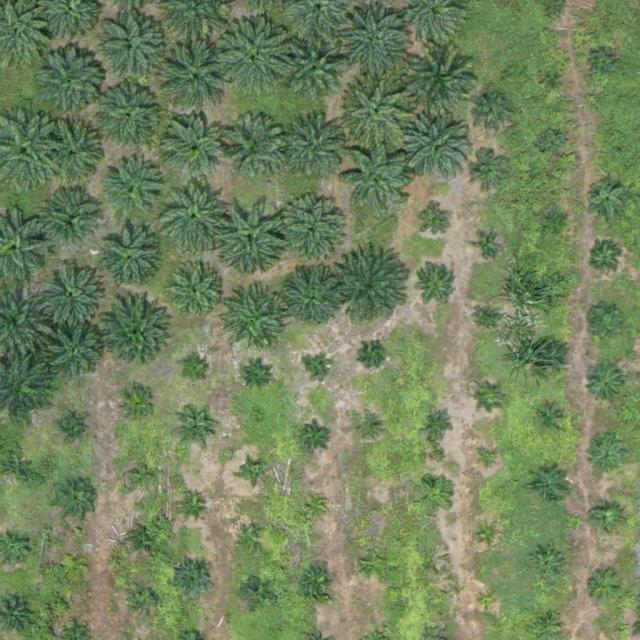Healthy: (29, 43, 107, 122), (93, 12, 171, 91), (158, 41, 236, 120), (335, 7, 413, 86), (405, 50, 483, 129), (214, 199, 292, 278), (156, 178, 234, 257), (218, 20, 296, 98), (336, 250, 414, 328), (274, 195, 345, 266), (99, 301, 170, 372), (344, 76, 414, 147), (217, 289, 287, 360), (37, 257, 107, 328), (404, 117, 474, 187), (344, 142, 414, 212), (280, 265, 343, 328), (284, 118, 347, 181), (164, 261, 227, 324), (102, 159, 165, 222), (221, 118, 283, 181), (165, 119, 227, 182), (95, 86, 157, 149), (97, 227, 160, 289), (41, 117, 103, 180), (43, 189, 105, 251), (49, 326, 104, 381), (287, 44, 341, 100), (123, 457, 162, 497), (540, 276, 571, 308)
Small: (414, 260, 461, 307), (581, 300, 628, 347), (583, 567, 623, 607), (474, 90, 514, 130), (586, 365, 625, 405), (116, 384, 155, 424), (532, 465, 572, 504), (176, 560, 215, 600), (587, 179, 626, 219), (587, 438, 626, 477), (56, 481, 95, 520), (175, 413, 214, 452), (298, 563, 337, 602), (530, 546, 569, 585), (533, 340, 572, 379), (468, 152, 507, 191), (417, 476, 456, 515), (536, 405, 567, 437), (242, 574, 273, 606), (130, 525, 161, 557), (423, 208, 454, 240), (177, 489, 208, 521), (130, 584, 161, 616), (55, 413, 86, 445), (60, 550, 91, 582), (591, 505, 622, 536), (242, 360, 273, 391), (301, 421, 332, 452), (591, 243, 622, 274), (423, 408, 454, 439), (361, 549, 392, 580), (238, 524, 269, 555), (180, 357, 211, 388), (532, 610, 563, 640), (482, 386, 506, 410), (361, 341, 385, 365), (540, 130, 564, 154), (542, 69, 566, 93), (544, 209, 568, 233), (477, 449, 501, 473), (476, 524, 500, 548), (477, 590, 501, 614), (304, 495, 328, 519), (243, 460, 267, 484), (309, 357, 332, 381), (594, 53, 617, 77), (358, 419, 381, 443), (365, 499, 388, 523), (476, 238, 499, 261), (479, 306, 502, 329), (613, 147, 628, 162)
